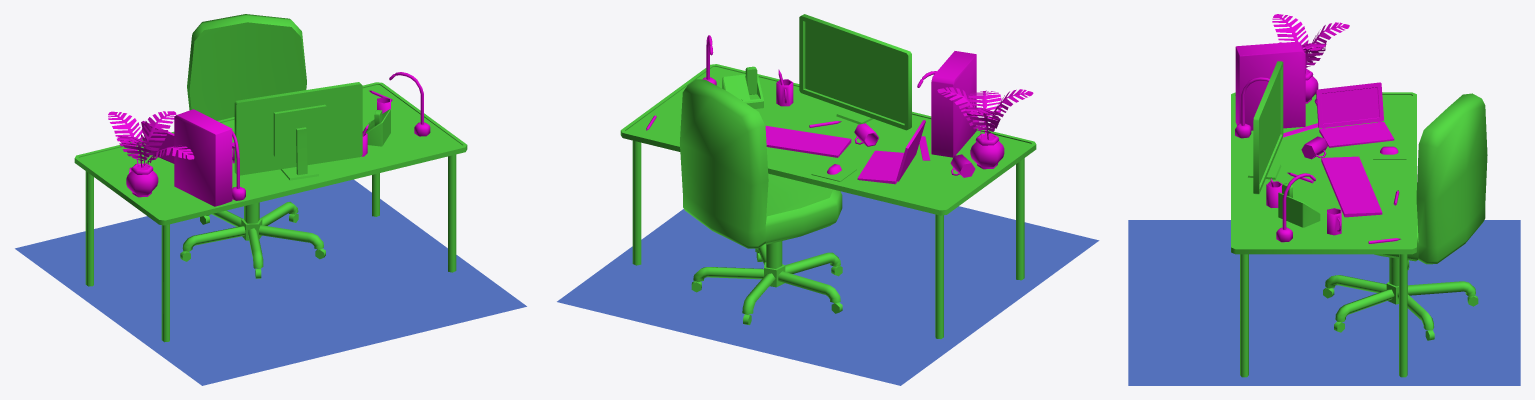
File: demo.fbx
The picture shows the model from 3 angles, left to right: view 1: azimuth 30°, elevation 25°; view 2: azimuth 150°, elevation 25°; view 3: azimuth 270°, elevation 25°; orthographic projection. The views are drawn at different scales.
Parts seen in each view (by area): view 1: sol, table002, chair002, screen002, computer002, plant_002, phone002, laptop_lp002, light002; view 2: sol, chair002, table002, screen002, computer002, plant_002, keyboard_lp002, laptop_lp002, phone002; view 3: sol, table002, chair002, computer002, laptop_lp002, screen002, keyboard_lp002, plant_002, phone002, light002, light003, mug003 (+3 smaller).
Boxes of the visible parts, x1,y1,x2,y2 form: sol: [15, 179, 526, 385]; table002: [74, 82, 467, 342]; chair002: [180, 14, 325, 278]; screen002: [234, 82, 362, 180]; computer002: [174, 109, 232, 206]; plant_002: [108, 111, 194, 197]; phone002: [366, 109, 390, 146]; laptop_lp002: [141, 121, 174, 163]; light002: [389, 72, 430, 136]; sol: [557, 191, 1099, 385]; chair002: [680, 79, 842, 325]; table002: [620, 64, 1036, 338]; screen002: [799, 14, 911, 130]; computer002: [931, 51, 976, 157]; plant_002: [937, 87, 1033, 169]; keyboard_lp002: [765, 125, 851, 157]; laptop_lp002: [857, 120, 925, 184]; phone002: [722, 66, 763, 108]; sol: [1128, 220, 1520, 385]; table002: [1231, 92, 1416, 377]; chair002: [1323, 93, 1487, 340]; computer002: [1235, 41, 1305, 130]; laptop_lp002: [1316, 82, 1394, 147]; screen002: [1248, 61, 1283, 194]; keyboard_lp002: [1321, 156, 1382, 217]; plant_002: [1272, 14, 1349, 103]; phone002: [1278, 183, 1320, 227]; light002: [1276, 173, 1315, 242]; light003: [1235, 77, 1269, 138]; mug003: [1301, 136, 1327, 159].
Size of the model in its own units: 71.93 by 42.38 by 70.
